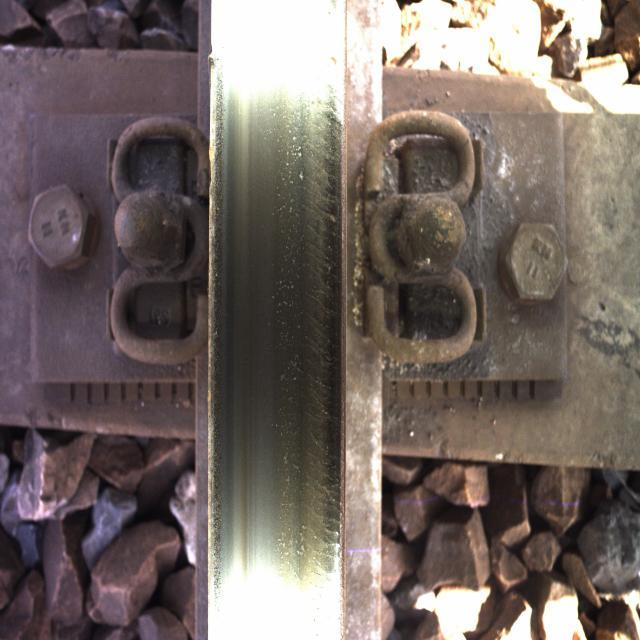scar: (277, 28, 345, 572)
